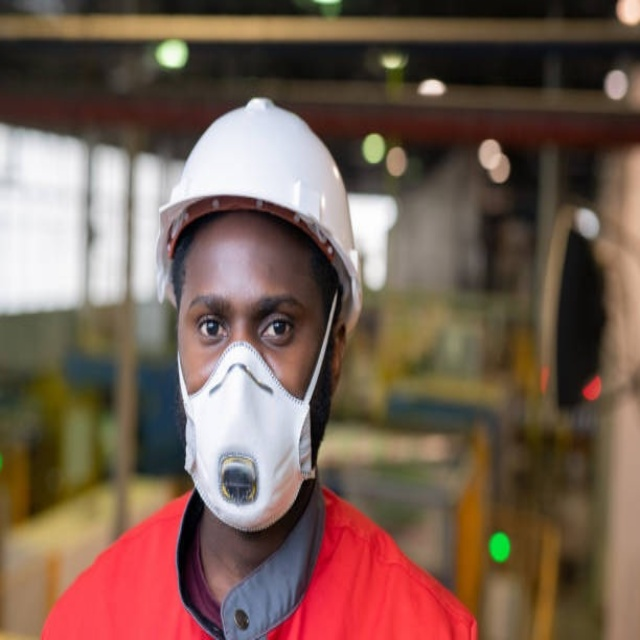Mascara: (176, 334, 322, 525)
Sin_gafas: (181, 284, 307, 361)
